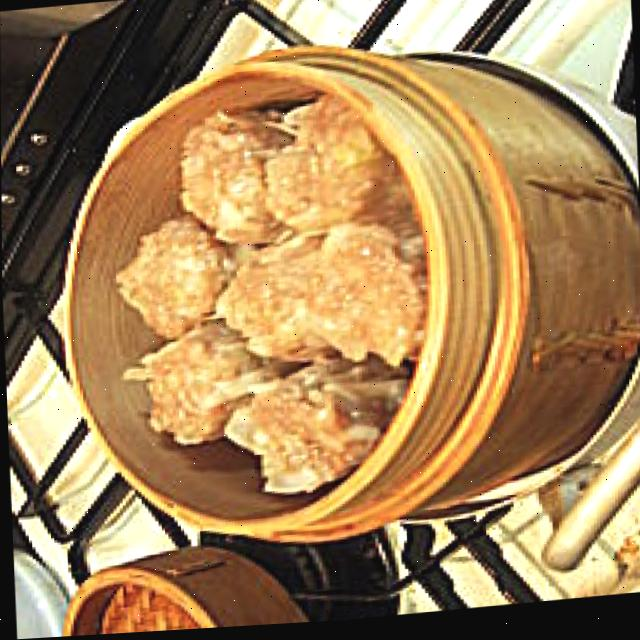带馅早点: (92, 93, 432, 515)
